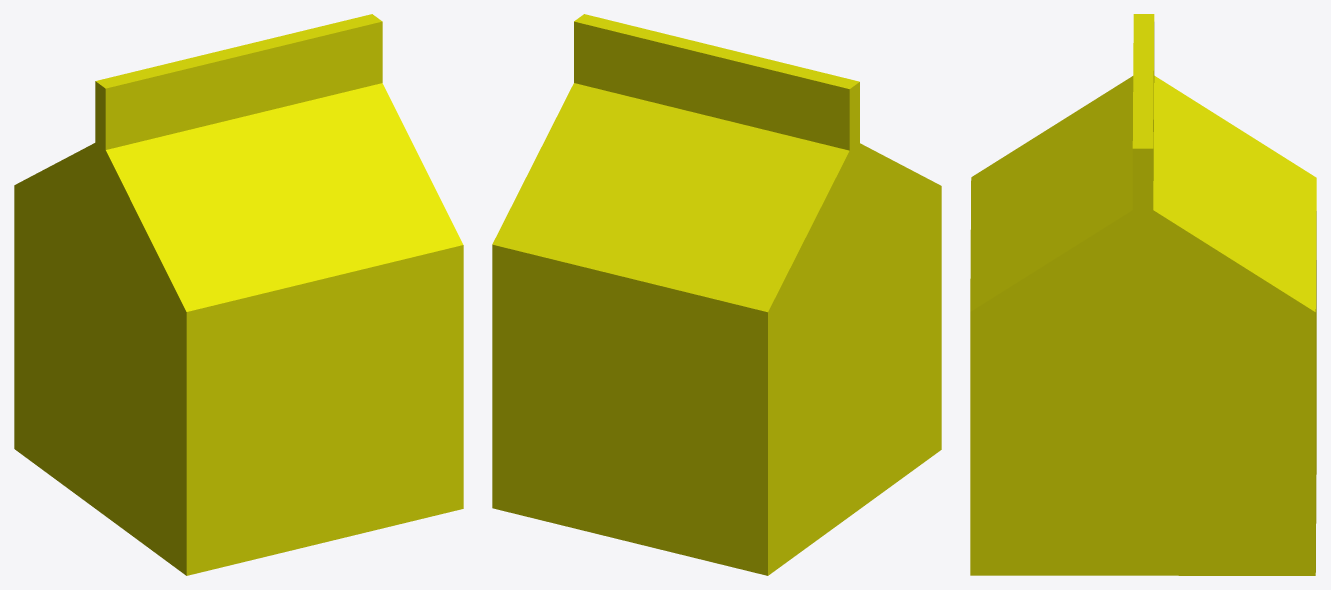
The picture shows the model from 3 angles, left to right: view 1: azimuth 30°, elevation 25°; view 2: azimuth 150°, elevation 25°; view 3: azimuth 270°, elevation 25°; orthographic projection.
Visible parts, largest first — view 1: Milk; view 2: Milk; view 3: Milk.
Boxes of the visible parts, x1,y1,x2,y2 form: Milk: (14, 14, 463, 575); Milk: (492, 14, 941, 575); Milk: (970, 14, 1316, 575).
Size of the model in its own units: 0.0634 by 0.0935 by 0.0687.
1 material, 1 textured.
